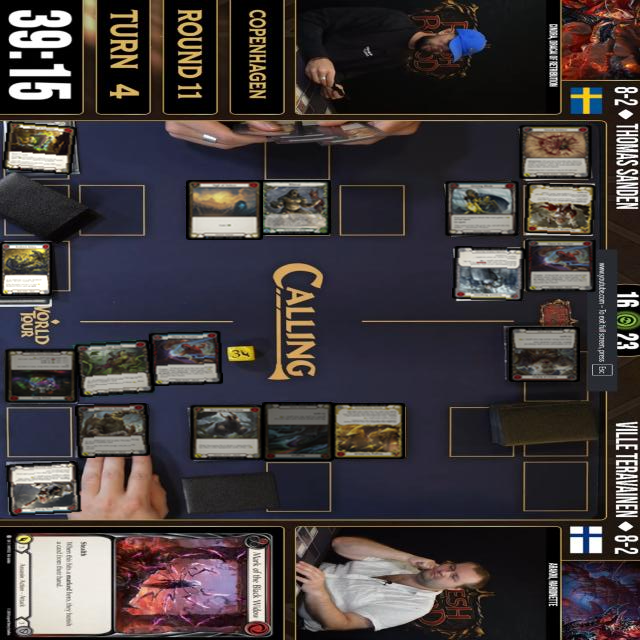Barraging_Brawnhide_WTR177: (188, 405, 264, 462)
Breakneck_Battery_WTR013: (0, 242, 52, 296)
Crazy_Brew_WTR162: (4, 348, 79, 405)
Driving_Blade_WTR146: (444, 180, 520, 237)
Ironsong_Response_WTR134: (5, 462, 82, 517)
Open_the_Center_WTR096: (524, 238, 597, 293)
Open_the_Center_WTR097: (149, 331, 223, 386)
Primeval_Bellow_WTR035: (509, 328, 579, 383)
Rhinar_WTR002: (259, 180, 331, 236)
Savage_Feast_WTR016: (72, 339, 155, 398)
Sigil_of_Solace_WTR173: (185, 180, 263, 240)
Singing_Steelblade_WTR121: (332, 403, 405, 460)
Sloggism_WTR223: (262, 402, 334, 462)
Smash_Instinct_WTR027: (518, 124, 593, 181)
Staunch_Response_WTR052: (451, 246, 525, 302)
Steelblade_Supremacy_WTR119: (523, 182, 597, 236)
Tome_of_Fyendal_WTR160: (1, 121, 78, 175)
Wrecker_Romp_WTR029: (74, 404, 150, 459)
